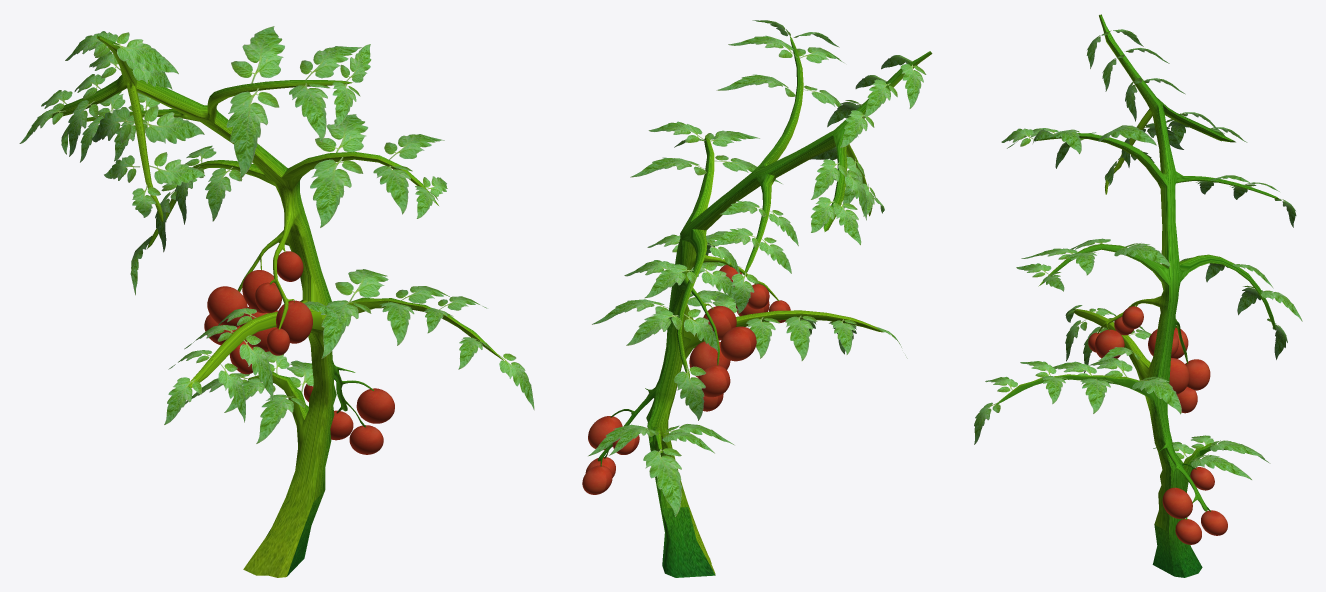
File: twoTomatoPlants_edit_for_FBX.fbx
3 views of the same model, side by side, from view 1: azimuth 30°, elevation 25°; view 2: azimuth 150°, elevation 25°; view 3: azimuth 270°, elevation 25° (orthographic). The views are drawn at different scales.
Visible parts, largest first — view 1: TomatoPlants; view 2: TomatoPlants; view 3: TomatoPlants.
Part boxes in pixels (bbox=[...]): TomatoPlants: bbox=[19, 26, 534, 577]; TomatoPlants: bbox=[582, 20, 932, 577]; TomatoPlants: bbox=[974, 14, 1302, 577].
Size of the model in its own units: 858 by 1321 by 891.
